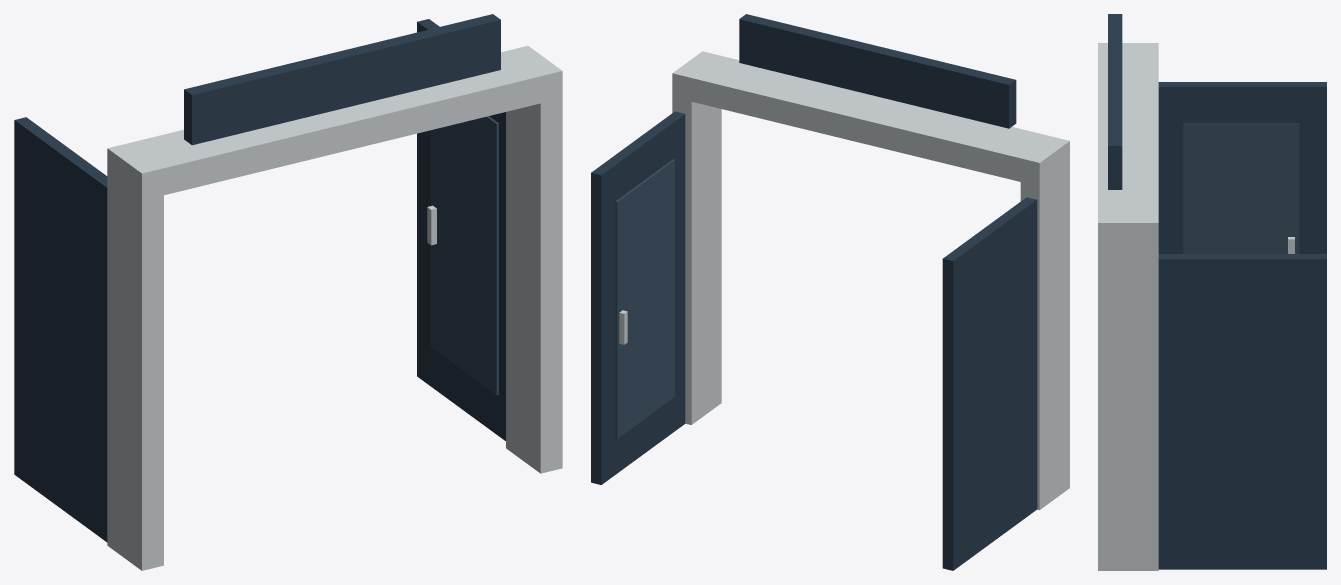
File: porta_entrada.glb
The picture shows the model from 3 angles, left to right: view 1: azimuth 30°, elevation 25°; view 2: azimuth 150°, elevation 25°; view 3: azimuth 270°, elevation 25°; orthographic projection. The views are drawn at different scales.
Visible parts, largest first — view 1: FolhaAberta, BatenteE, BatenteD, Verga, PlacaEntrada, _MeshInstance3D_596, _MeshInstance3D_593; view 2: FolhaAberta, Verga, _MeshInstance3D_593, PlacaEntrada, _MeshInstance3D_596, BatenteD, BatenteE; view 3: _MeshInstance3D_593, BatenteD, Rebaixo, FolhaAberta, Verga, PlacaEntrada.
Part boxes in pixels (left/top/right/bottom): FolhaAberta: left=14, top=117, right=107, bottom=542; BatenteE: left=107, top=160, right=163, bottom=570; BatenteD: left=506, top=82, right=562, bottom=473; Verga: left=107, top=46, right=562, bottom=200; PlacaEntrada: left=184, top=14, right=500, bottom=145; _MeshInstance3D_596: left=430, top=116, right=498, bottom=394; _MeshInstance3D_593: left=417, top=19, right=505, bottom=440; FolhaAberta: left=942, top=197, right=1037, bottom=570; Verga: left=672, top=51, right=1069, bottom=181; _MeshInstance3D_593: left=591, top=111, right=685, bottom=484; PlacaEntrada: left=739, top=14, right=1016, bottom=128; _MeshInstance3D_596: left=615, top=159, right=674, bottom=438; BatenteD: left=672, top=83, right=721, bottom=424; BatenteE: left=1020, top=151, right=1069, bottom=509; _MeshInstance3D_593: left=1158, top=254, right=1326, bottom=569; BatenteD: left=1098, top=233, right=1158, bottom=570; Rebaixo: left=1183, top=123, right=1299, bottom=253; FolhaAberta: left=1158, top=82, right=1326, bottom=253; Verga: left=1098, top=43, right=1158, bottom=246; PlacaEntrada: left=1108, top=14, right=1122, bottom=189.
Size of the model in its own units: 4.22 by 4.39 by 2.27.
